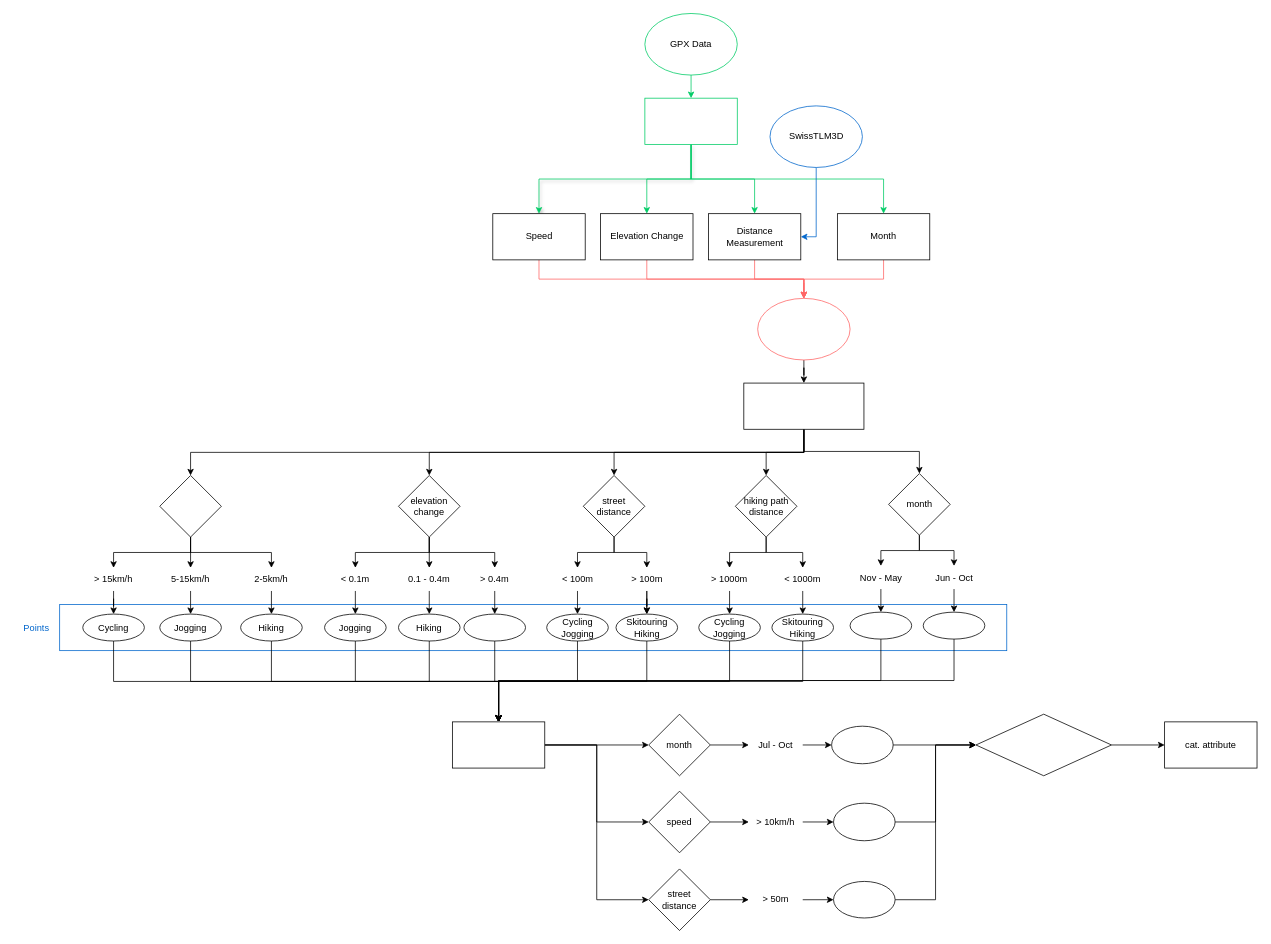
Image size: 1271x944. Some labels were removed from this diagram. The centre of each missing label's shape, as x and y in pixels:
0 points for Cycling: point 864,899
0 points for Hiking: point 864,821
0 points for Skitouring: point 862,744
average speed: point 190,506
Classification Model: point 803,405
Cycling Skitouring: point 494,627
Enriched Data: point 803,329
Hiking Cycling: point 953,625
max point ratio: point 1043,744
Remove Outliers: point 690,120
Skitouring: point 880,625
sum up points: point 498,744
